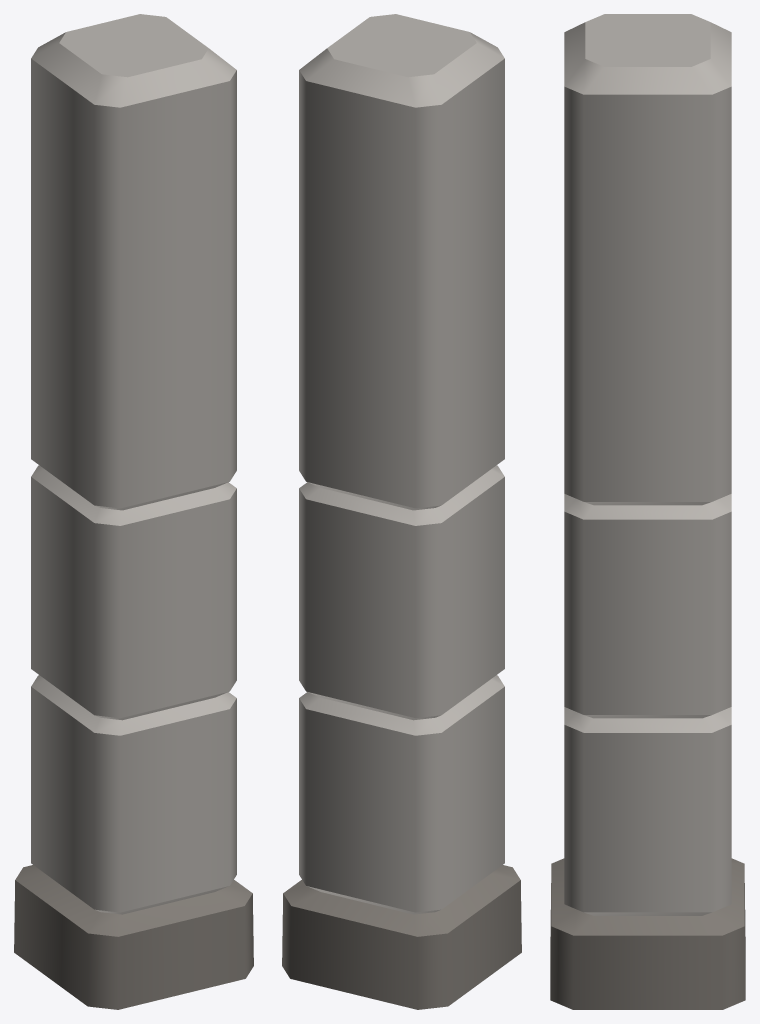
Rendered from Pillar 01.FBX.
3 views of the same model, side by side, from view 1: azimuth 30°, elevation 25°; view 2: azimuth 150°, elevation 25°; view 3: azimuth 270°, elevation 25° (orthographic).
Visible parts, largest first — view 1: Pillar 01; view 2: Pillar 01; view 3: Pillar 01.
Boxes of the visible parts, bbox=[...] form: Pillar 01: bbox=[14, 14, 253, 1009]; Pillar 01: bbox=[282, 14, 521, 1009]; Pillar 01: bbox=[550, 14, 745, 1009].
Bounding box in the file's own units: 91.25 × 479 × 91.25.
1 material, 1 textured.
